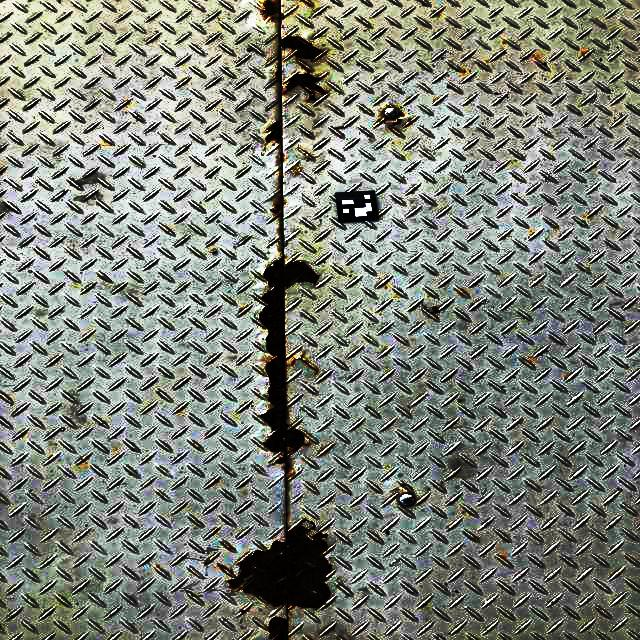Corrosion: (259, 257, 318, 464), (228, 522, 331, 609), (286, 72, 326, 100), (280, 35, 322, 59), (268, 618, 288, 640), (264, 120, 282, 142), (261, 0, 278, 16), (270, 195, 284, 214), (386, 115, 403, 125), (216, 564, 228, 574), (274, 62, 281, 79)
